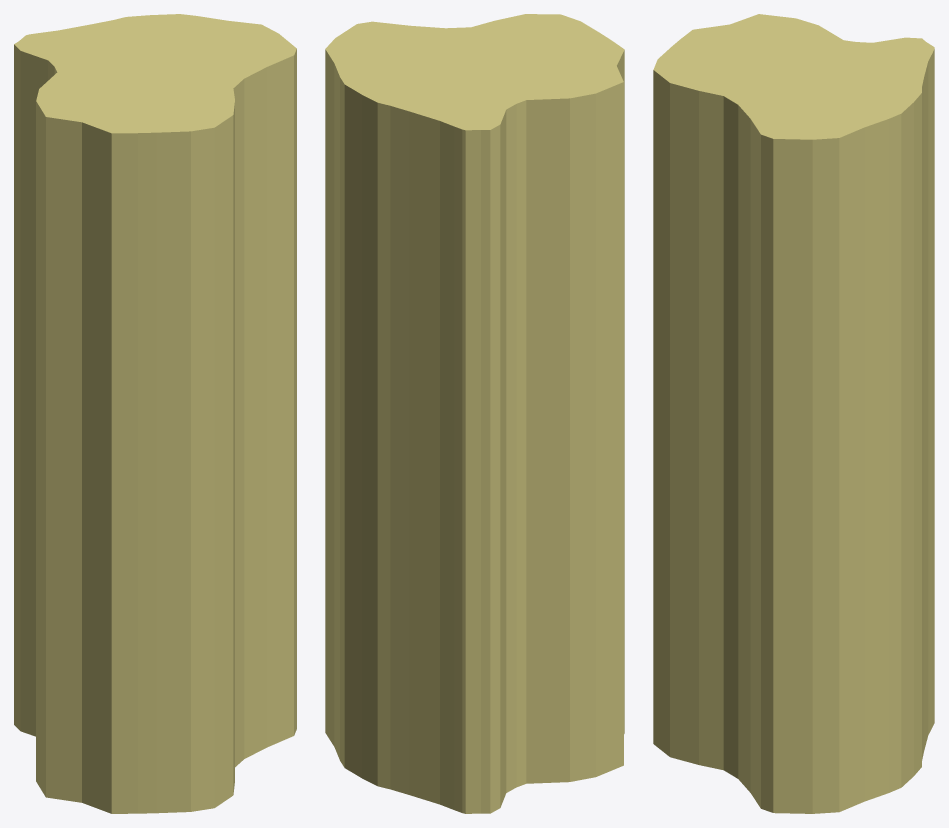
Rendered from woods_pine_1_centered_000.dae.
3 views of the same model, side by side, from view 1: azimuth 30°, elevation 25°; view 2: azimuth 150°, elevation 25°; view 3: azimuth 270°, elevation 25° (orthographic).
Visible parts, largest first — view 1: Object; view 2: Object; view 3: Object.
Part boxes in pixels (bbox=[...]): Object: bbox=[14, 14, 296, 813]; Object: bbox=[325, 14, 624, 813]; Object: bbox=[653, 14, 934, 813].
Size of the model in its own units: 3.05 by 2.88 by 7.62.
